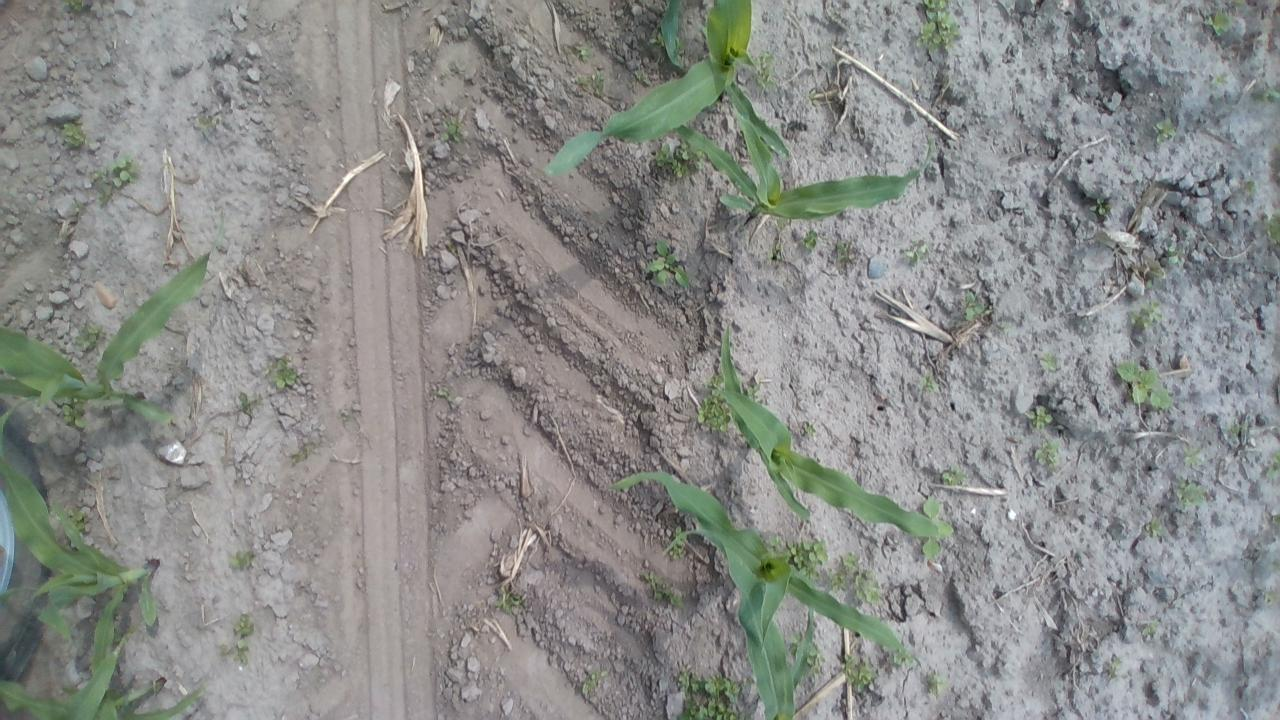Maize: (601, 467, 924, 718), (710, 318, 957, 552), (0, 396, 168, 720), (544, 0, 801, 195), (2, 224, 225, 432), (671, 112, 934, 224), (0, 660, 213, 718), (732, 591, 809, 716), (662, 0, 689, 63)
Weeds: (670, 670, 744, 720), (768, 534, 830, 582), (912, 494, 954, 559), (1116, 360, 1171, 409), (915, 1, 964, 56), (93, 151, 141, 202), (646, 238, 691, 288), (696, 374, 732, 434), (656, 140, 708, 180), (218, 612, 256, 665), (640, 572, 686, 611), (55, 117, 95, 152), (841, 655, 877, 693), (266, 354, 302, 391), (849, 570, 886, 606), (1170, 475, 1206, 512), (1128, 300, 1165, 333), (492, 582, 529, 614), (754, 50, 780, 91), (664, 523, 690, 562), (1032, 437, 1060, 471), (960, 291, 989, 323), (58, 400, 88, 430), (580, 666, 610, 694), (77, 320, 106, 348), (225, 548, 258, 572), (574, 70, 610, 92), (1206, 11, 1234, 39), (938, 463, 968, 488), (801, 644, 824, 676), (440, 116, 466, 144), (1025, 404, 1051, 431), (904, 240, 930, 266), (1152, 118, 1179, 143), (925, 669, 947, 698), (234, 391, 260, 415), (918, 371, 942, 396), (66, 507, 88, 534), (1260, 211, 1276, 248), (1222, 419, 1248, 441), (1104, 652, 1124, 680), (1254, 81, 1278, 104), (288, 442, 314, 463), (841, 551, 864, 574), (338, 406, 361, 428), (1091, 197, 1114, 219), (119, 620, 141, 643), (1038, 350, 1060, 373), (58, 0, 96, 13), (1143, 518, 1165, 540), (568, 42, 592, 62), (746, 380, 764, 406), (889, 646, 910, 668), (432, 385, 456, 404), (1140, 620, 1160, 642), (1182, 445, 1202, 466), (1144, 266, 1166, 285), (1208, 71, 1230, 90), (1164, 244, 1182, 267), (1240, 176, 1258, 198), (802, 229, 820, 250), (830, 568, 846, 591), (195, 112, 213, 132), (1264, 454, 1276, 482), (801, 422, 820, 439), (766, 242, 782, 262), (836, 242, 852, 261), (804, 90, 820, 109), (650, 31, 664, 50), (998, 318, 1012, 333), (1263, 588, 1276, 603), (630, 70, 646, 82), (1232, 0, 1246, 9)
